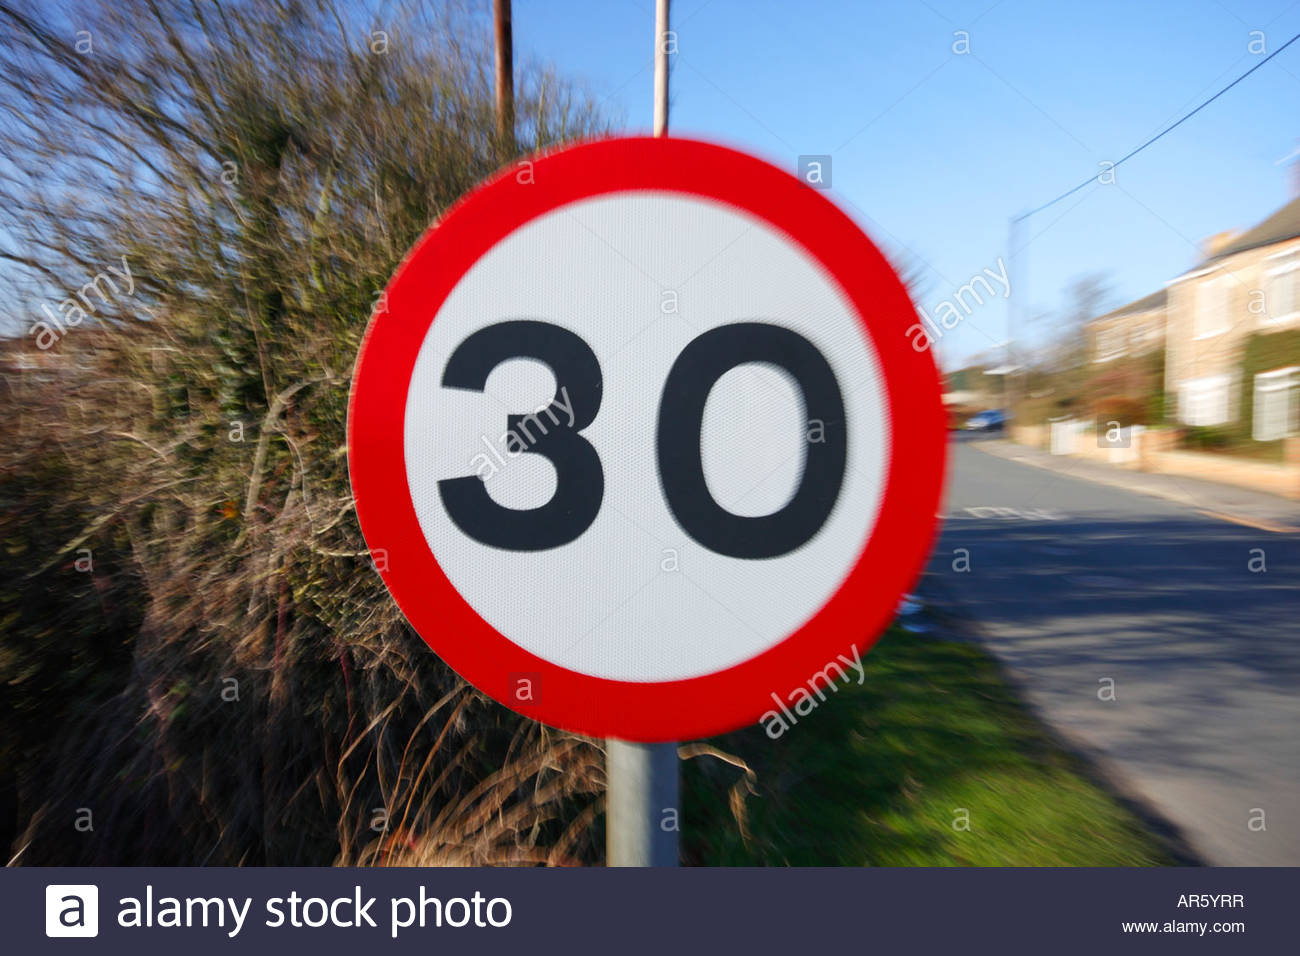Speed_limit_30km: (340, 140, 950, 729)
